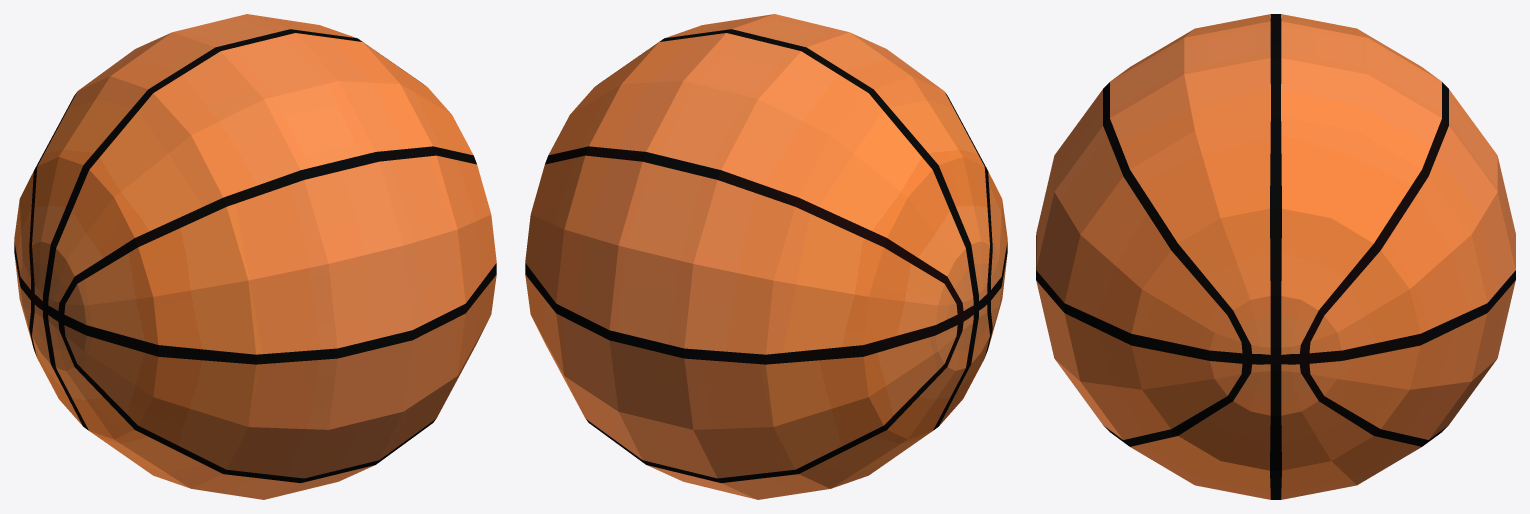
The model's file is basketball.glb.
The picture shows the model from 3 angles, left to right: view 1: azimuth 30°, elevation 25°; view 2: azimuth 150°, elevation 25°; view 3: azimuth 270°, elevation 25°; orthographic projection.
Parts seen in each view (by area): view 1: Sphere; view 2: Sphere; view 3: Sphere.
Boxes of the visible parts, x1=… form: Sphere: x1=14, y1=14, x2=496, y2=499; Sphere: x1=525, y1=14, x2=1007, y2=499; Sphere: x1=1036, y1=14, x2=1515, y2=499.
Bounding box in the file's own units: 1.11 × 1.09 × 1.09.
Materials: 1 (1 with a texture image).
